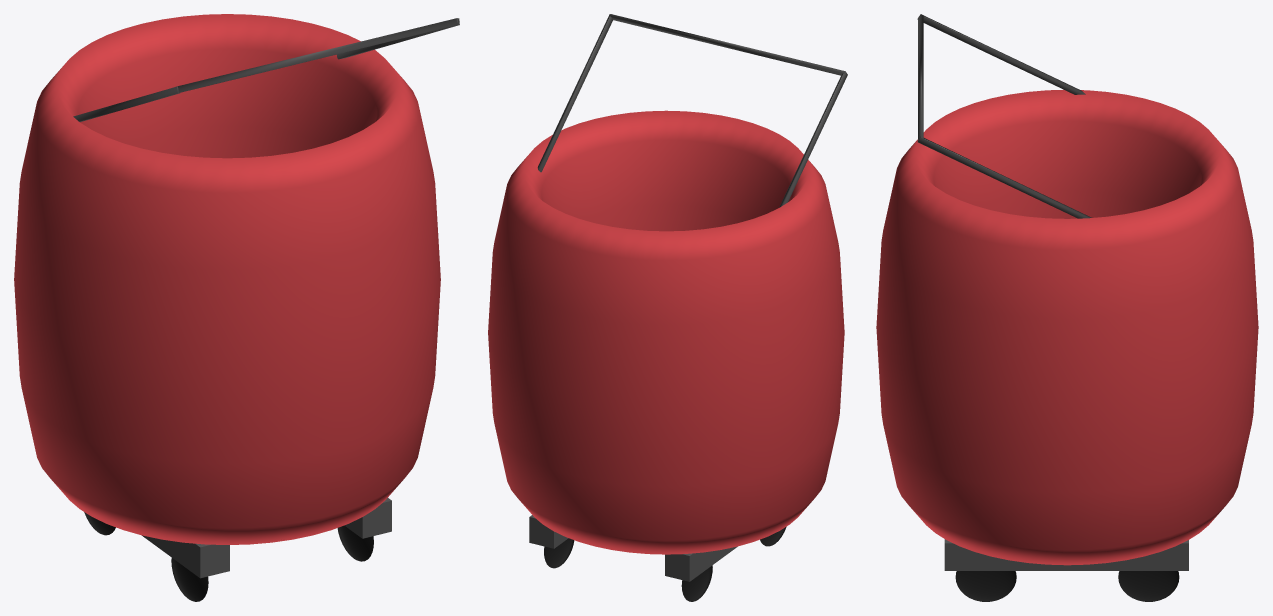
File: bucket.fbx
3 renders of one model, left to right at view 1: azimuth 30°, elevation 25°; view 2: azimuth 150°, elevation 25°; view 3: azimuth 270°, elevation 25°, orthographic. The views are drawn at different scales.
Parts seen in each view (by area): view 1: Torus; view 2: Torus; view 3: Torus.
Boxes of the visible parts, x1,y1,x2,y2 form: Torus: [14, 14, 459, 601]; Torus: [488, 14, 847, 601]; Torus: [876, 14, 1258, 601].
Size of the model in its own units: 250 by 356 by 250.
